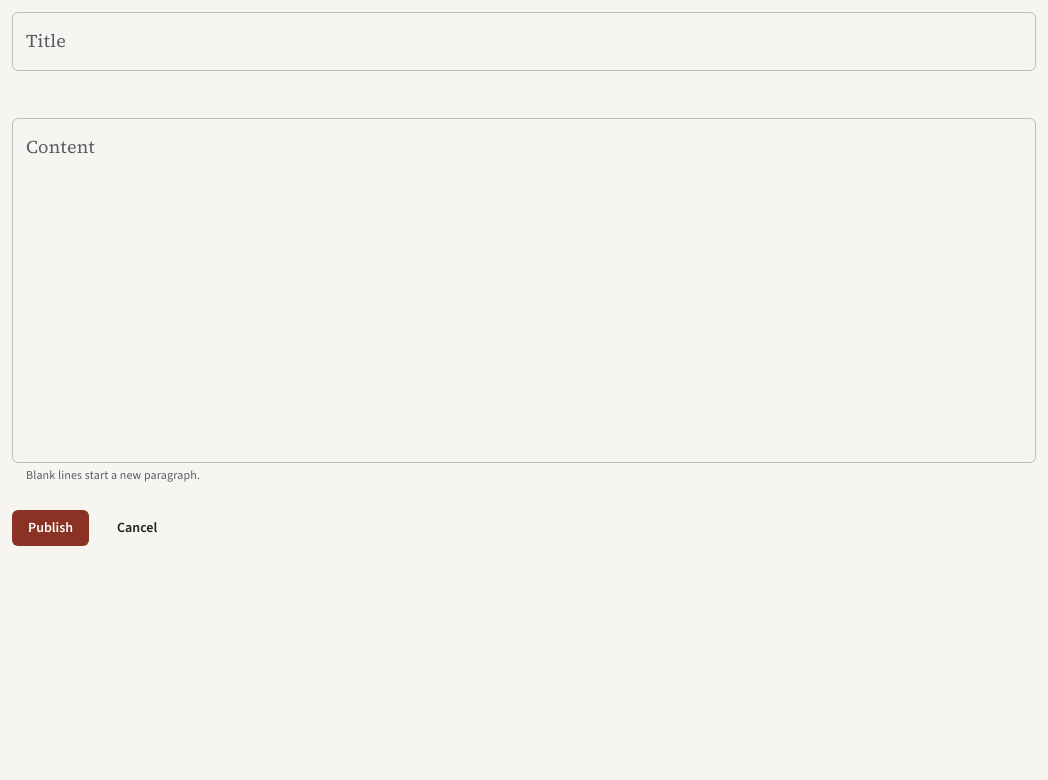
Test: <PostForm /> › blocks submission and names the missing fields
The image size is (1048, 780).
Click the button "Publish": (51, 528) [12, 510, 89, 546]
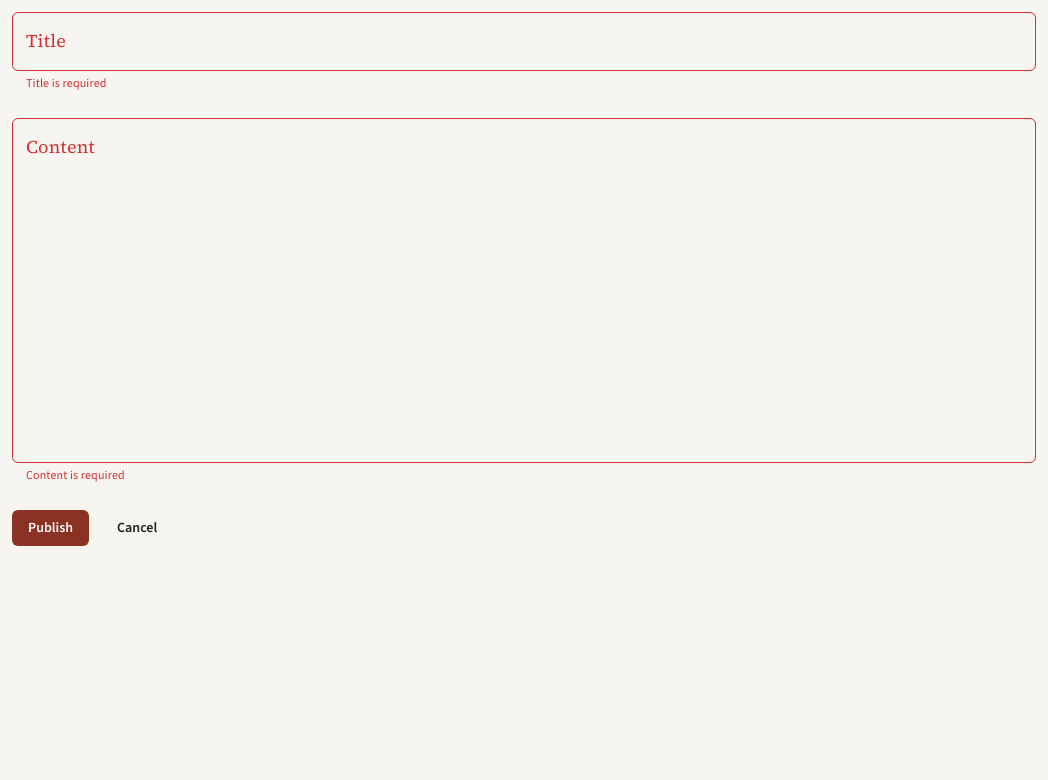
Result: the text "Title is required" is shown at [26, 75, 107, 91]
Result: the text "Content is required" is shown at [26, 467, 125, 483]
